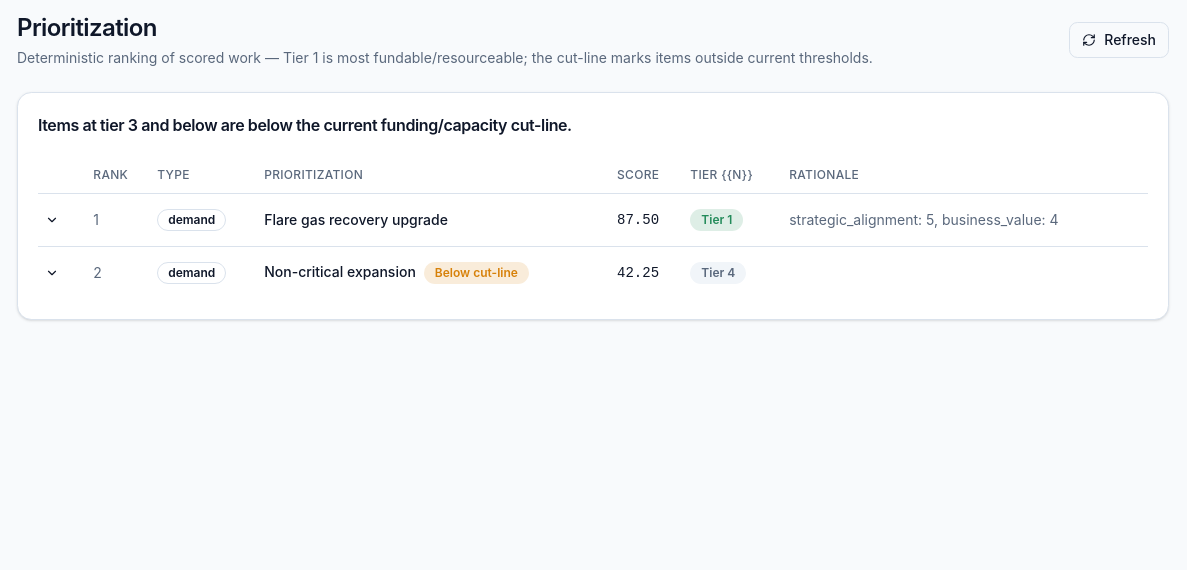
Test case: prioritization board › submits an override through the per-row form
Click the button named "override tier for flare gas recovery upgrade" at coordinates (52, 220), box 38,206 -> 66,234
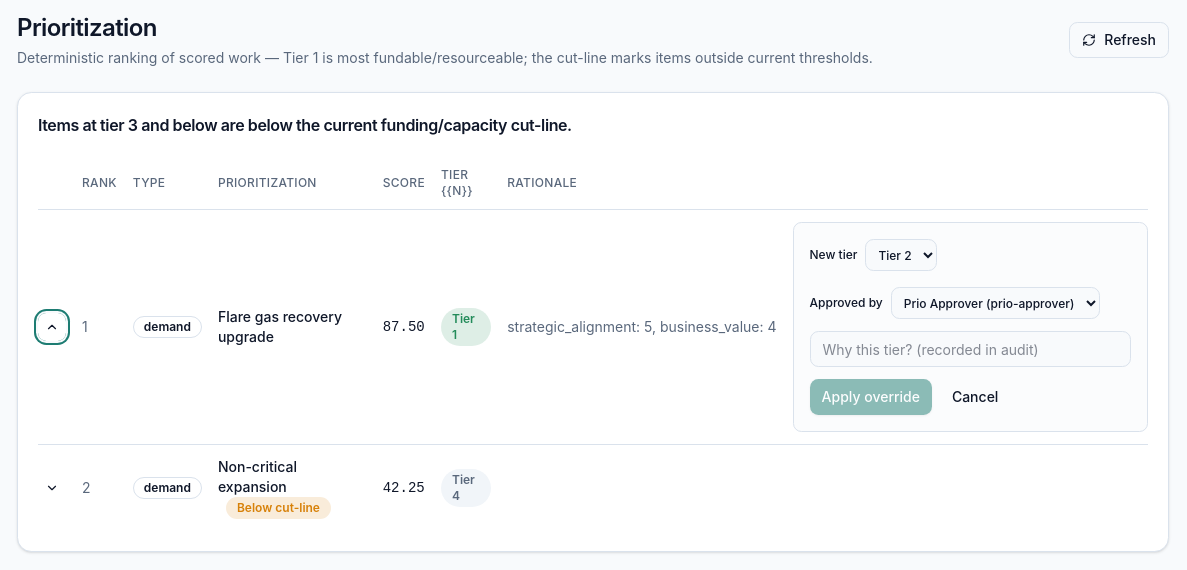
Expected: the element with test id "prioritization-override-form" is shown, 792,222 -> 1148,432
Type "Strategic priority raised" into the field named "Justification" at coordinates (970, 349), box 810,331 -> 1131,367
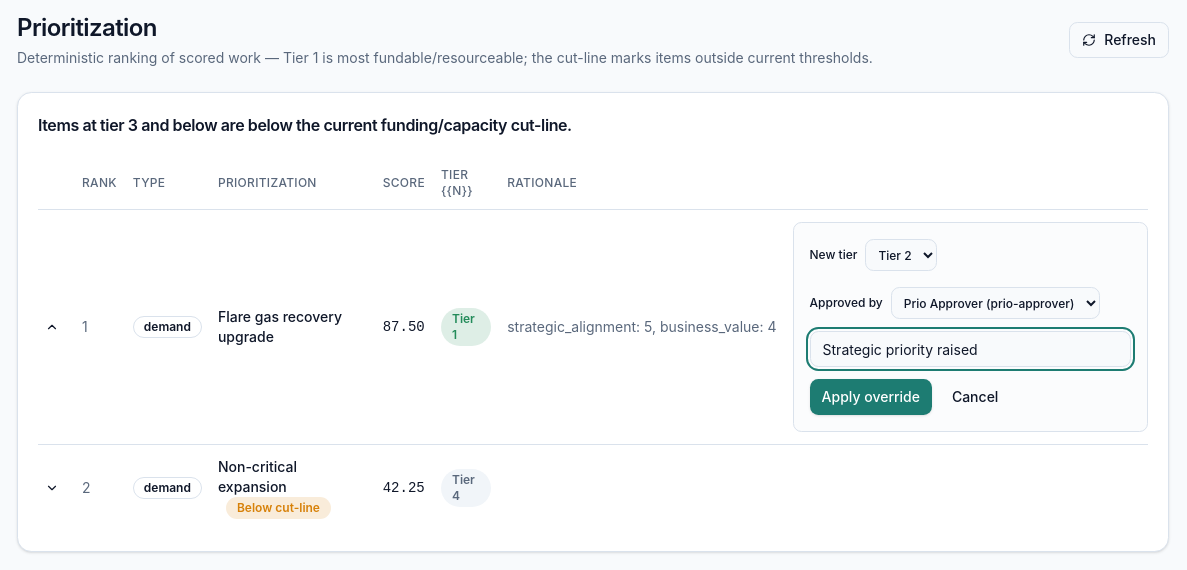
Select "Prio Approver (prio-approver)" in the dropdown labelled "Approved by" at coordinates (995, 303), box 891,287 -> 1100,319
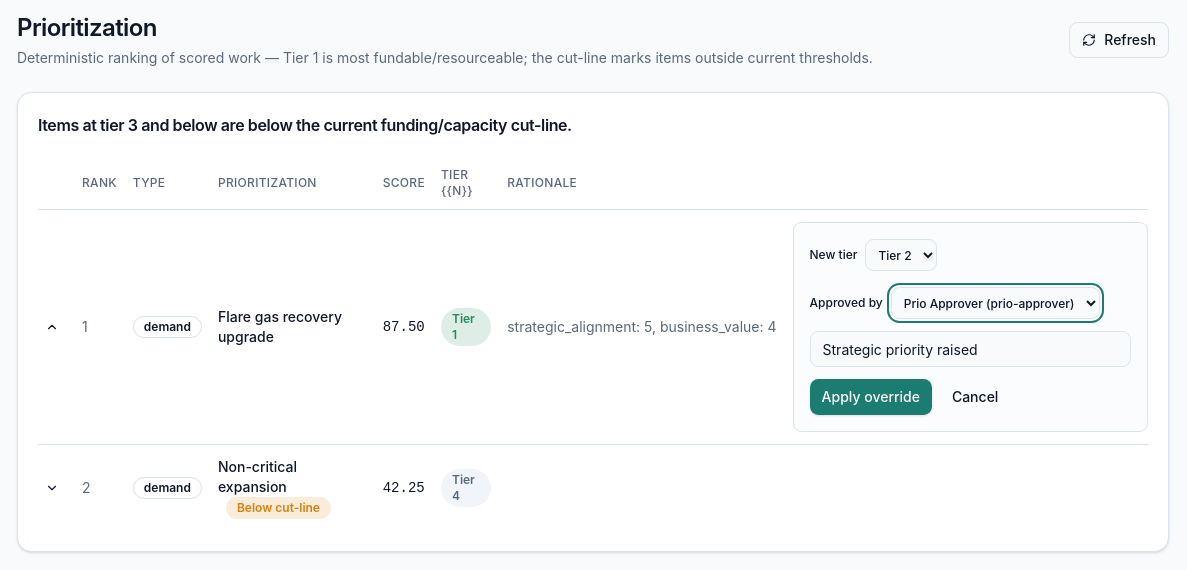
Click the button "Apply override" at coordinates (871, 397), box 810,379 -> 932,415
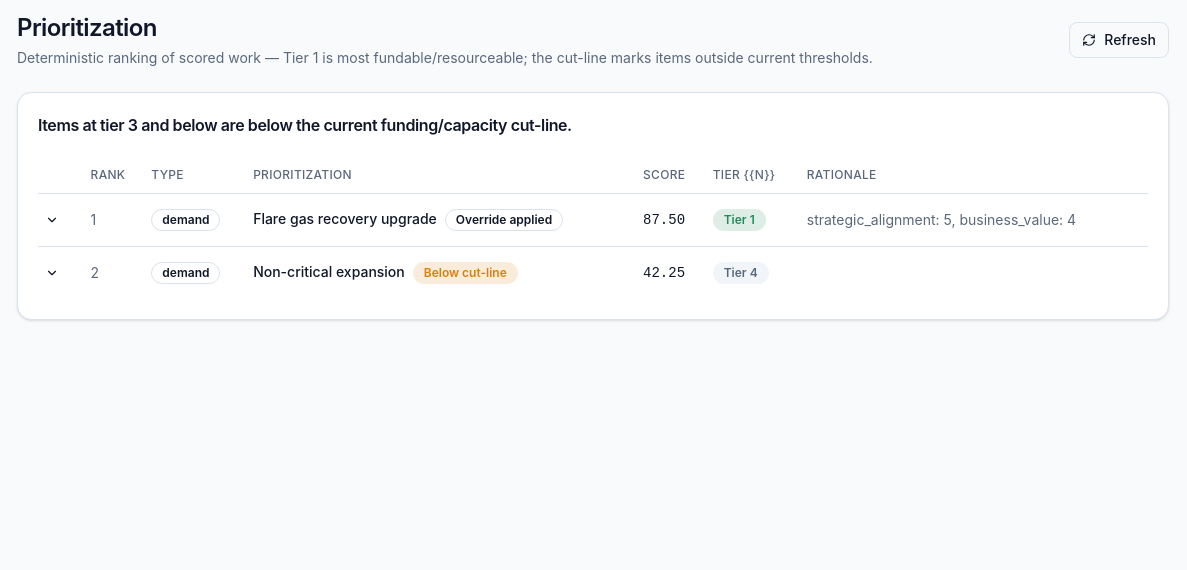
Expected: the text "Override applied" is shown, 445,209 -> 563,231
Expected: the element with test id "prioritization-override-form" is gone
